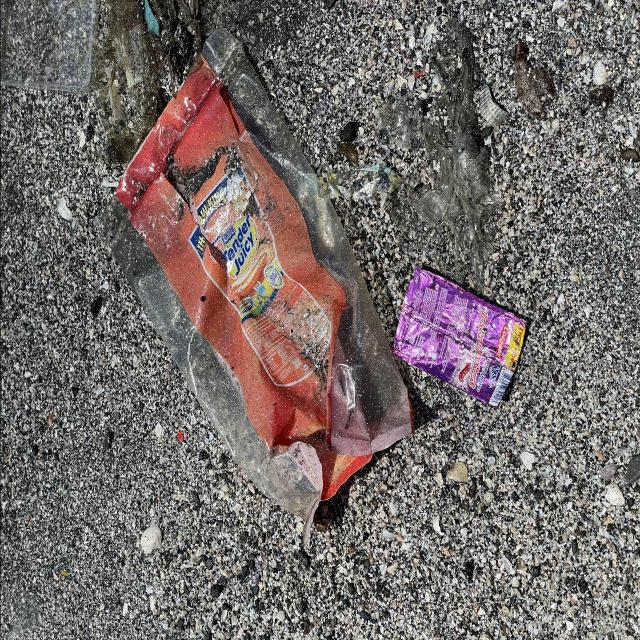plastic_waste: (115, 48, 415, 544), (394, 264, 525, 406)
